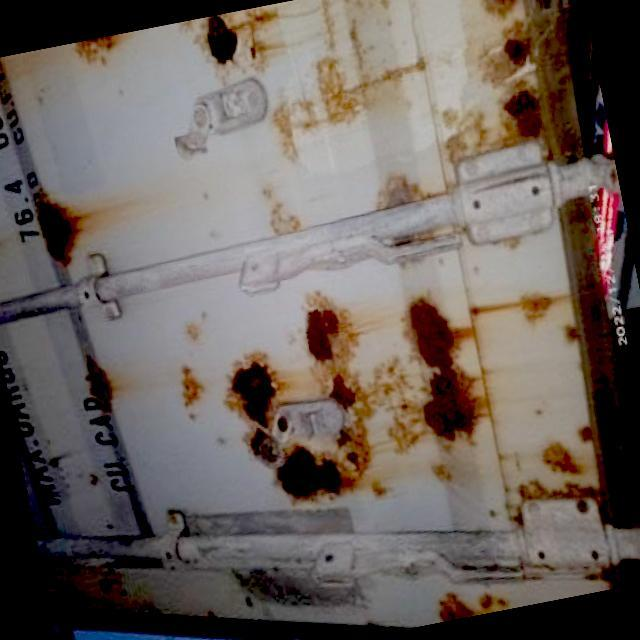rust: (414, 292, 483, 424), (252, 431, 351, 502), (491, 71, 551, 137), (203, 11, 249, 78), (41, 193, 86, 260), (299, 298, 348, 355), (237, 361, 268, 432), (82, 353, 116, 412), (461, 1, 521, 13)
